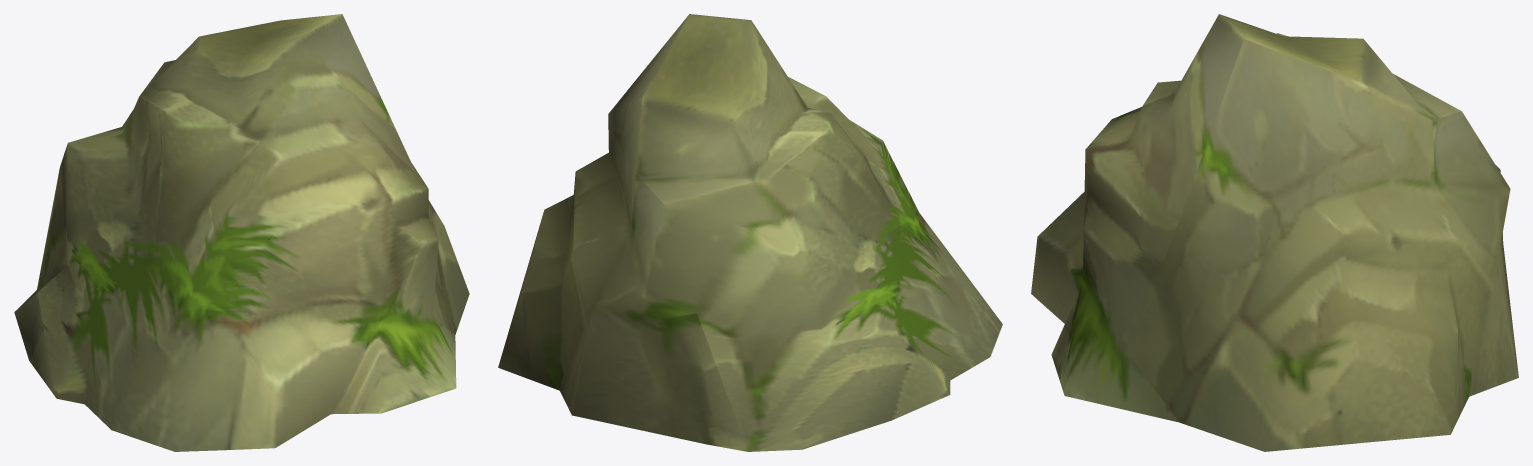
File: shanshi_zhongxing01_4.FBX
3 views of the same model, side by side, from view 1: azimuth 30°, elevation 25°; view 2: azimuth 150°, elevation 25°; view 3: azimuth 270°, elevation 25° (orthographic). The views are drawn at different scales.
Parts seen in each view (by area): view 1: shanshi_zhongxing01_4; view 2: shanshi_zhongxing01_4; view 3: shanshi_zhongxing01_4.
Boxes of the visible parts, <box> form: shanshi_zhongxing01_4: <box>14,14,469,451</box>; shanshi_zhongxing01_4: <box>498,14,1002,451</box>; shanshi_zhongxing01_4: <box>1031,14,1518,451</box>.
Size of the model in its own units: 246 by 182 by 234.
